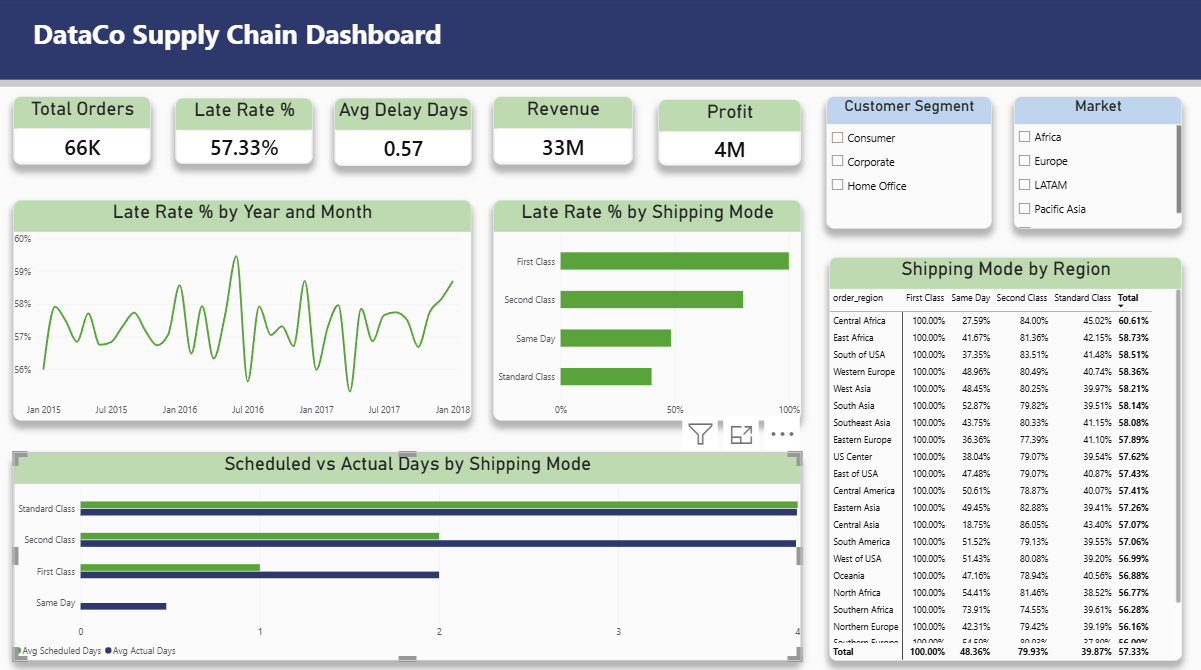

Layout of this report page (visuals, bound fields, positions):
{"tool":"powerbi","page":{"name":"Page 1","canvas":[1920,1080],"ordinal":0},"visuals":[{"type":"cardVisual","title":"Total Orders","fields":{"Data":["Calendar.Total Orders"]},"box":[25.5,158.7,218.3,107.7],"z":0},{"type":"shape","box":[0,0,1919.1,133.2],"z":1000},{"type":"textbox","box":[56.7,31.2,1802.8,65.2],"z":2000},{"type":"cardVisual","title":"Late Rate %","fields":{"Data":["Calendar.Late Rate %"]},"box":[283.9,162.2,218.3,104.9],"z":3000},{"type":"cardVisual","title":"Avg Delay Days","fields":{"Data":["Calendar.Avg Delay Days"]},"box":[536.8,162.2,218.3,107.7],"z":4000},{"type":"cardVisual","title":"Revenue","fields":{"Data":["Calendar.Revenue"]},"box":[789.7,159.9,221.1,107.7],"z":5000},{"type":"cardVisual","title":"Profit","fields":{"Data":["Calendar.Profit"]},"box":[1052.2,164.6,226.8,104.9],"z":6000},{"type":"slicer","title":"Customer Segment","fields":{"Values":["dataco.customer_segment"]},"box":[1319.4,159.9,262.5,210],"z":7000},{"type":"slicer","title":"Market","fields":{"Values":["dataco.market"]},"box":[1617.7,159.9,267.2,210],"z":8000},{"type":"lineChart","title":"Late Rate % by Year and Month","fields":{"Category":["dataco.order_date.Variation.Date Hierarchy.Year","dataco.order_date.Variation.Date Hierarchy.Month"],"Y":["Calendar.Late Rate %"]},"box":[26.2,324.5,727.7,350.7],"z":9000},{"type":"barChart","title":"Late Rate % by Shipping Mode","fields":{"Category":["dataco.shipping_mode"],"Y":["Calendar.Late Rate %"]},"box":[789.7,324.5,489.1,350.7],"z":10000},{"type":"pivotTable","title":"Shipping Mode by Region","fields":{"Columns":["dataco.shipping_mode"],"Rows":["dataco.order_region"],"Values":["Calendar.Late Rate %"]},"box":[1324.2,415.1,560.7,641.8],"z":11000},{"type":"clusteredBarChart","title":"Scheduled vs Actual Days by Shipping Mode","fields":{"Category":["dataco.shipping_mode"],"Y":["Calendar.Avg Scheduled Days","Calendar.Avg Actual Days"]},"box":[26.2,725.3,1252.6,331.6],"z":12000}]}

Visuals, with their boxes in screenshot pixels (x1, y1, x2, y2), scaled from the page's 1920x1080 canvas onto the 1201x670 screenshot:
"Total Orders" cardVisual: x1=16 y1=98 x2=153 y2=165
shape: x1=0 y1=0 x2=1200 y2=83
textbox: x1=35 y1=19 x2=1163 y2=60
"Late Rate %" cardVisual: x1=178 y1=101 x2=314 y2=166
"Avg Delay Days" cardVisual: x1=336 y1=101 x2=472 y2=167
"Revenue" cardVisual: x1=494 y1=99 x2=632 y2=166
"Profit" cardVisual: x1=658 y1=102 x2=800 y2=167
"Customer Segment" slicer: x1=825 y1=99 x2=990 y2=229
"Market" slicer: x1=1012 y1=99 x2=1179 y2=229
"Late Rate % by Year and Month" lineChart: x1=16 y1=201 x2=472 y2=419
"Late Rate % by Shipping Mode" barChart: x1=494 y1=201 x2=800 y2=419
"Shipping Mode by Region" pivotTable: x1=828 y1=258 x2=1179 y2=656
"Scheduled vs Actual Days by Shipping Mode" clusteredBarChart: x1=16 y1=450 x2=800 y2=656
